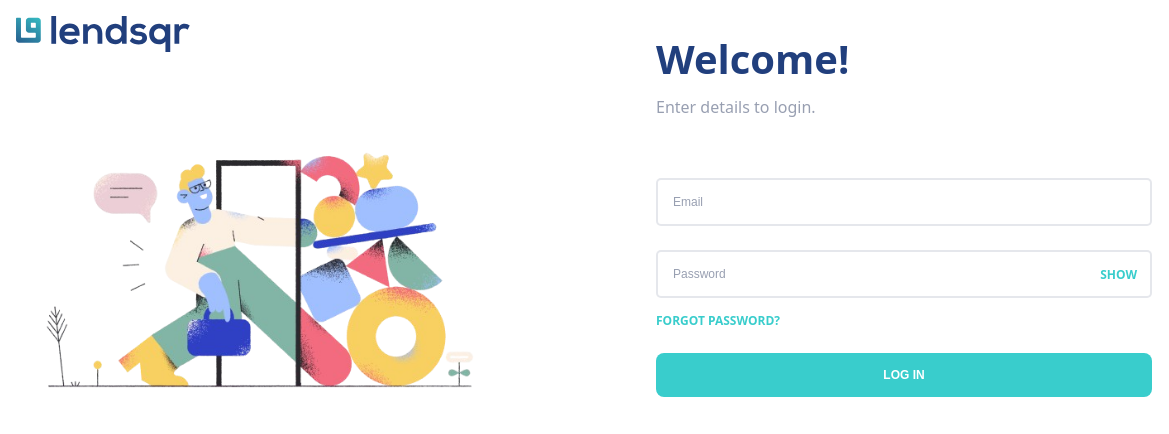
Scenario: Login Component › shows error when submitting empty form
The width and height of the screenshot is (1169, 434).
Step 1. Click the button "LOG IN" → (904, 375), box [656,353,1152,397]
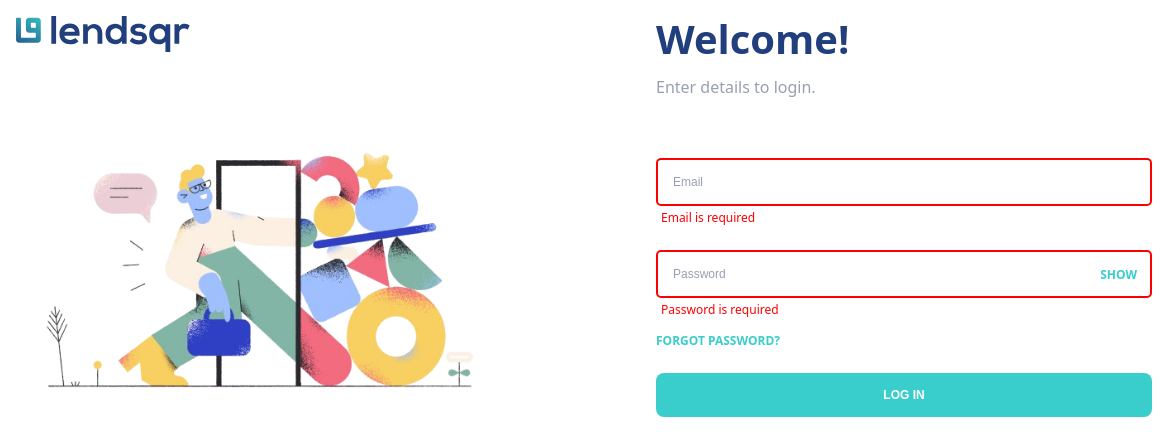
Expected: the text "Email is required" is shown, [661,209,755,226]
Expected: the text "Password is required" is shown, [661,301,779,318]
